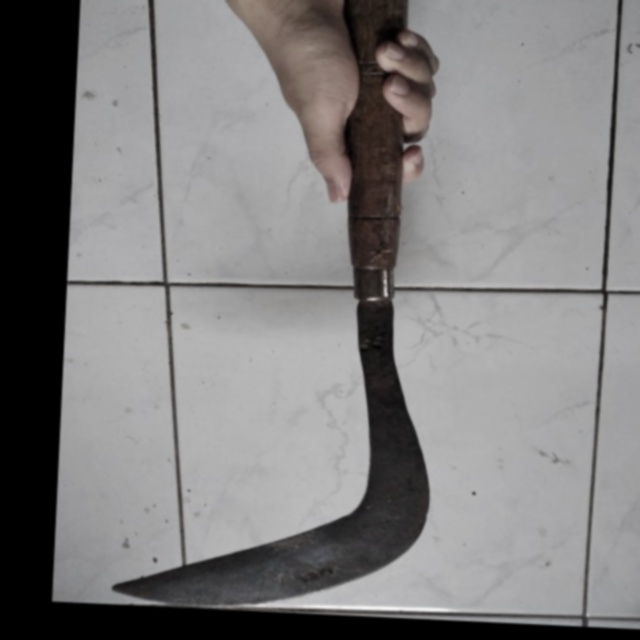Sharp-Object: (75, 0, 466, 620)
